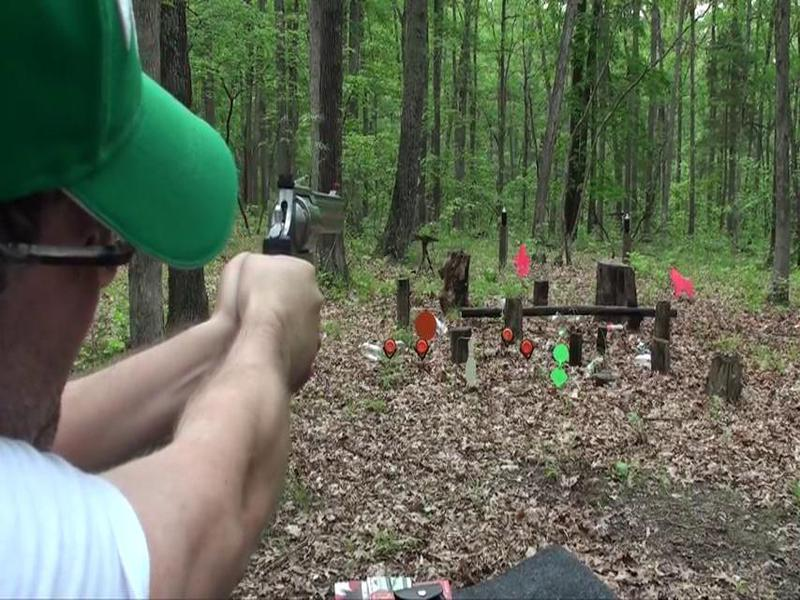Revolver: (219, 171, 359, 327)
